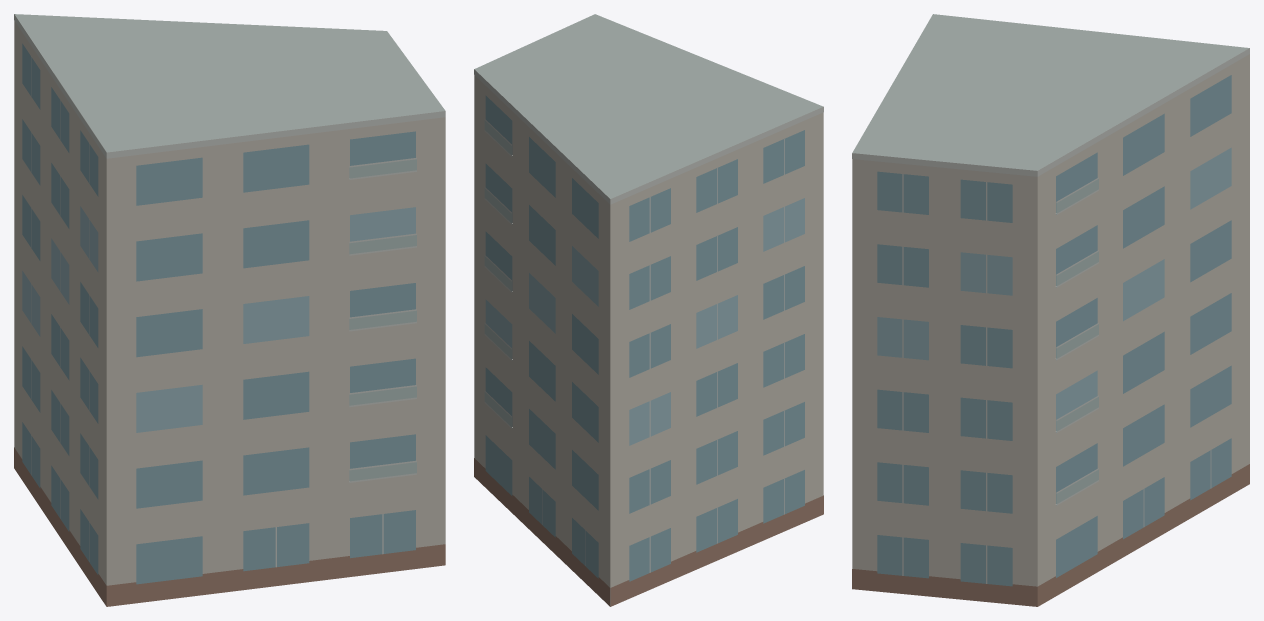
Rendered from survey-upis-32667469.glb.
3 views of the same model, side by side, from view 1: azimuth 30°, elevation 25°; view 2: azimuth 150°, elevation 25°; view 3: azimuth 270°, elevation 25° (orthographic). The views are drawn at different scales.
Visible parts, largest first — view 1: survey-upis-32667469.tmp; view 2: survey-upis-32667469.tmp; view 3: survey-upis-32667469.tmp.
Boxes of the visible parts, x1,y1,x2,y2 form: survey-upis-32667469.tmp: (14, 14, 445, 606); survey-upis-32667469.tmp: (474, 14, 823, 606); survey-upis-32667469.tmp: (852, 14, 1249, 606).
Bounding box in the file's own units: 13.82 × 17.9 × 14.81.
